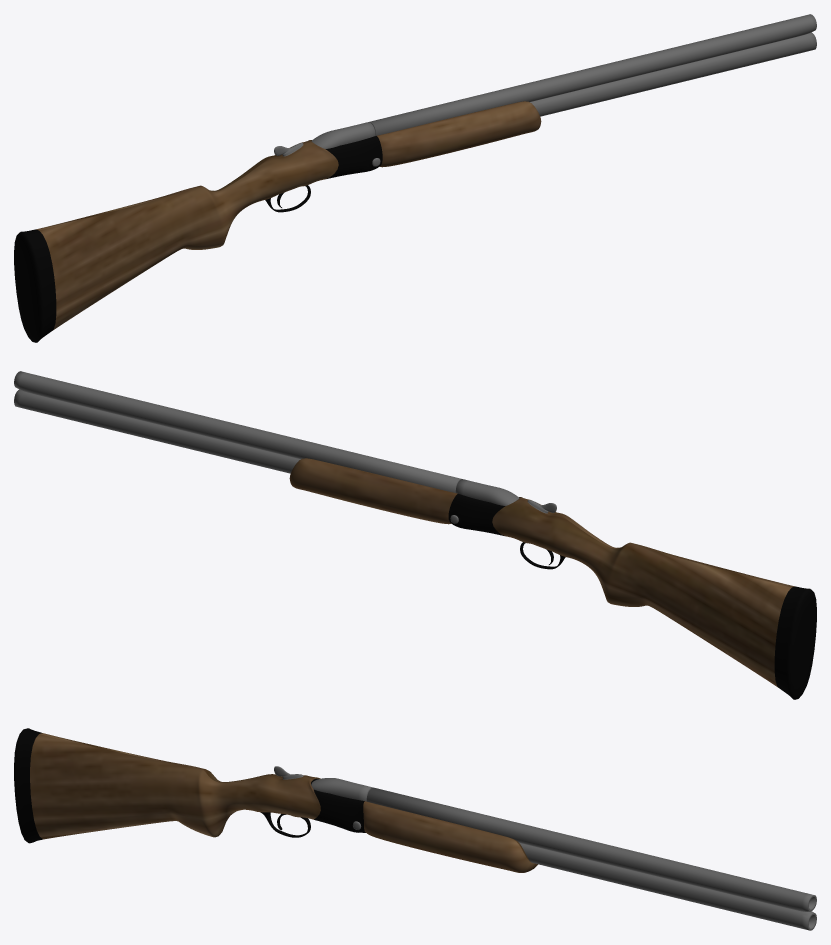
File: Rifle2.fbx
3 views of the same model, one above another, from view 1: azimuth 30°, elevation 25°; view 2: azimuth 150°, elevation 25°; view 3: azimuth 330°, elevation 25° (orthographic).
Parts seen in each view (by area): view 1: Cube; view 2: Cube; view 3: Cube.
Boxes of the visible parts, x1,y1,x2,y2 form: Cube: (14,14,816,342); Cube: (14,371,816,699); Cube: (14,728,816,930).
Size of the model in its own units: 106 by 17.44 by 6.06.
